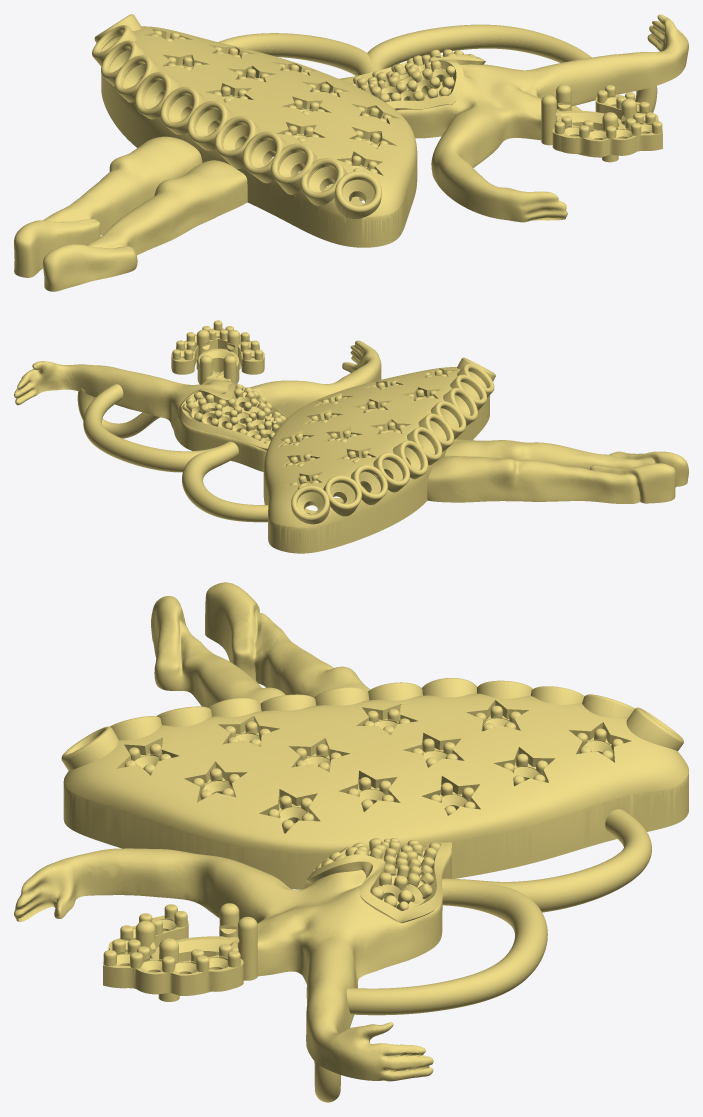
The model's file is kolyeler2-3_balerin2.glb.
3 renders of one model, top to bottom at view 1: azimuth 30°, elevation 25°; view 2: azimuth 150°, elevation 25°; view 3: azimuth 270°, elevation 25°, orthographic. The views are drawn at different scales.
Parts seen in each view (by area): view 1: Renderer Node; view 2: Renderer Node; view 3: Renderer Node.
Boxes of the visible parts, x1,y1,x2,y2 form: Renderer Node: (14, 14, 688, 291); Renderer Node: (14, 320, 688, 553); Renderer Node: (14, 582, 688, 1102).
Bounding box in the file's own units: 48.95 × 8.28 × 30.77.
